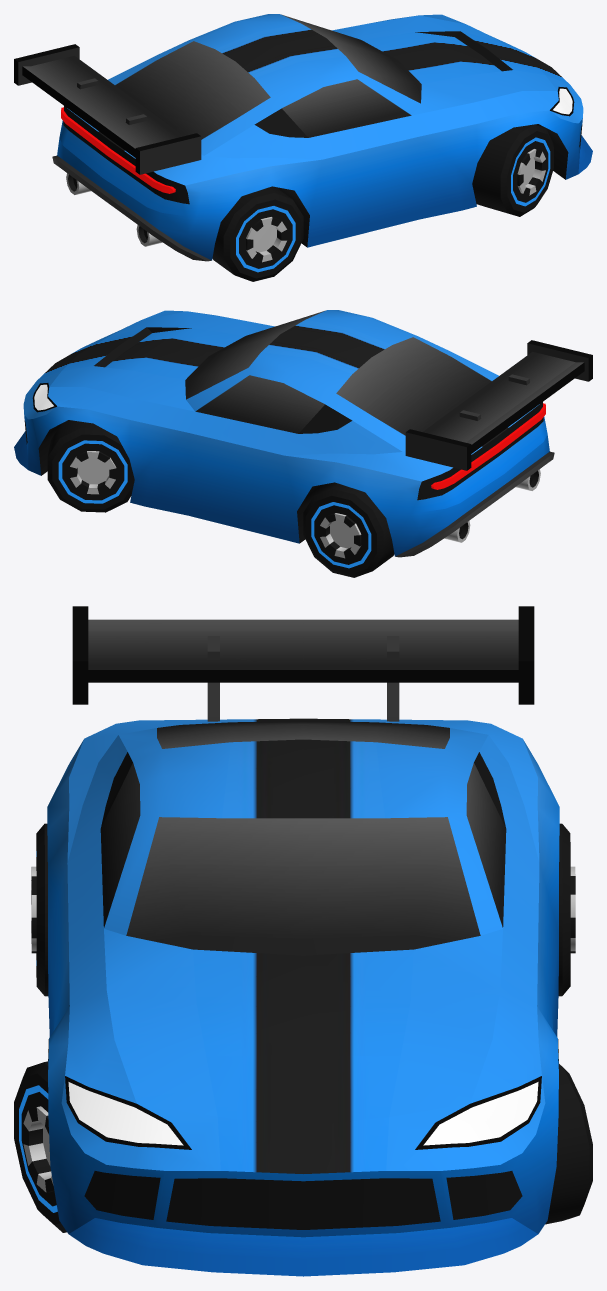
File: RaceCar_087.glb
3 renders of one model, top to bottom at view 1: azimuth 30°, elevation 25°; view 2: azimuth 150°, elevation 25°; view 3: azimuth 270°, elevation 25°, orthographic. The views are drawn at different scales.
Visible parts, largest first — view 1: RaceCar_087, wheel_3_RaceCar_087_Wheel_3R, wheel_1_RaceCar_087_Wheel_2R; view 2: RaceCar_087, wheel_2_RaceCar_087_Wheel_3L, wheel_0_RaceCar_087_Wheel_1L; view 3: RaceCar_087, wheel_1_RaceCar_087_Wheel_2R, wheel_0_RaceCar_087_Wheel_1L, wheel_3_RaceCar_087_Wheel_3R, wheel_2_RaceCar_087_Wheel_3L.
Part boxes in pixels (x1,y1,x2,y2): RaceCar_087: (14, 14, 592, 261); wheel_3_RaceCar_087_Wheel_3R: (212, 186, 303, 281); wheel_1_RaceCar_087_Wheel_2R: (472, 124, 553, 216); RaceCar_087: (14, 310, 592, 557); wheel_2_RaceCar_087_Wheel_3L: (303, 482, 394, 577); wheel_0_RaceCar_087_Wheel_1L: (47, 420, 134, 512); RaceCar_087: (47, 606, 559, 1276); wheel_1_RaceCar_087_Wheel_2R: (14, 1061, 66, 1232); wheel_0_RaceCar_087_Wheel_1L: (545, 1063, 592, 1224); wheel_3_RaceCar_087_Wheel_3R: (31, 823, 48, 996); wheel_2_RaceCar_087_Wheel_3L: (558, 823, 575, 996).
Size of the model in its own units: 3.83 by 1.22 by 2.16.
2 materials, 2 textured.
